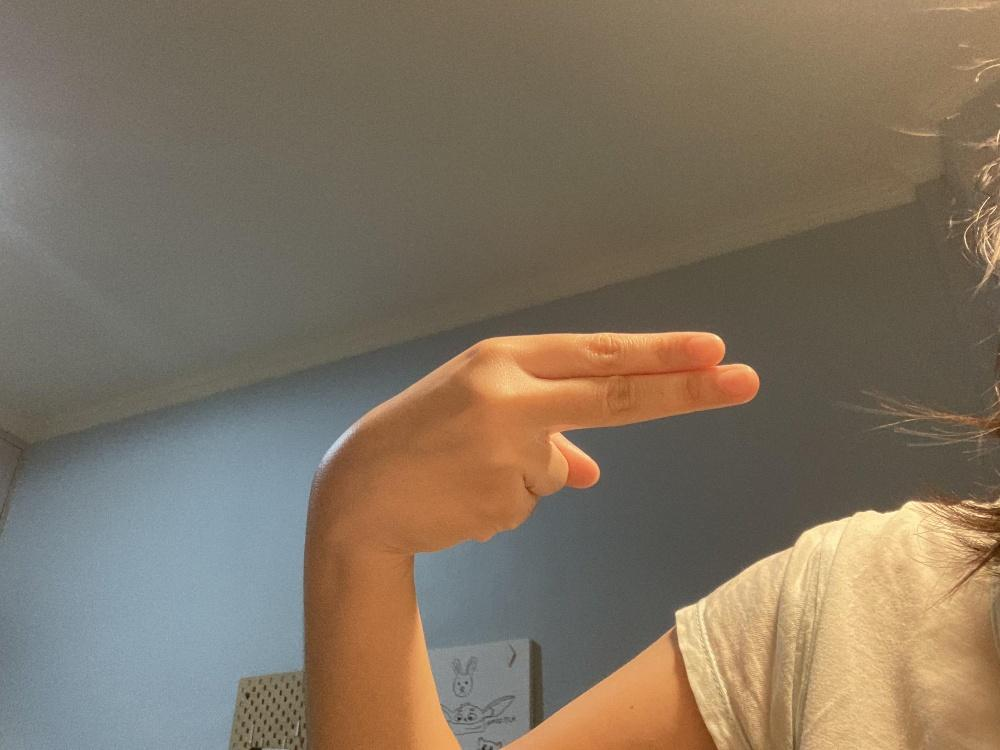h: (316, 330, 759, 555)
